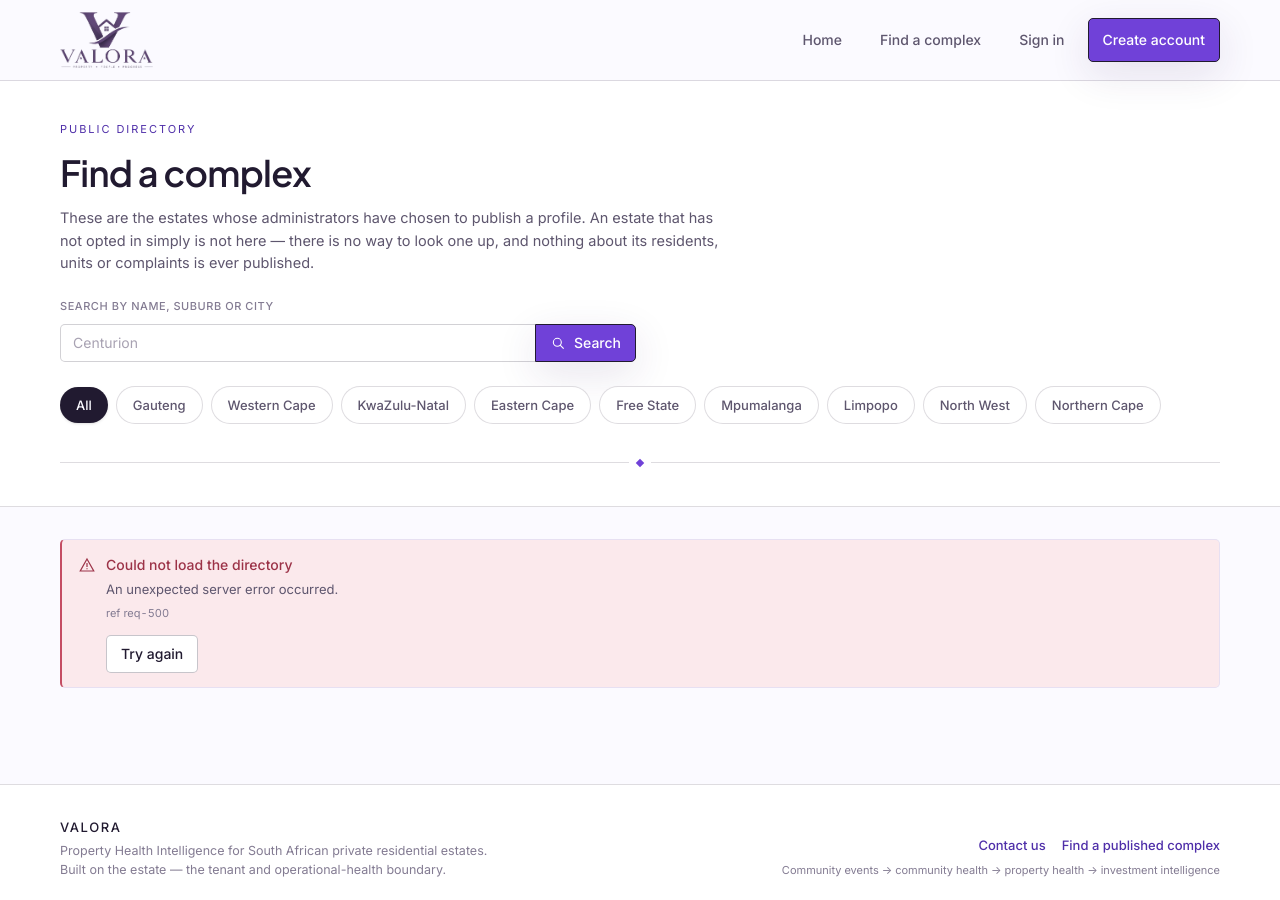
it: PublicEstates › shows a rejected directory read with its reference and a retry
Expected: the text "Could not load the directory" is shown, [106,556,292,573]
Expected: the text "ref req-500" is shown, [106,606,169,620]
Click the button "Try again" at (152, 654), box [106,634,198,672]
(page scrolled)
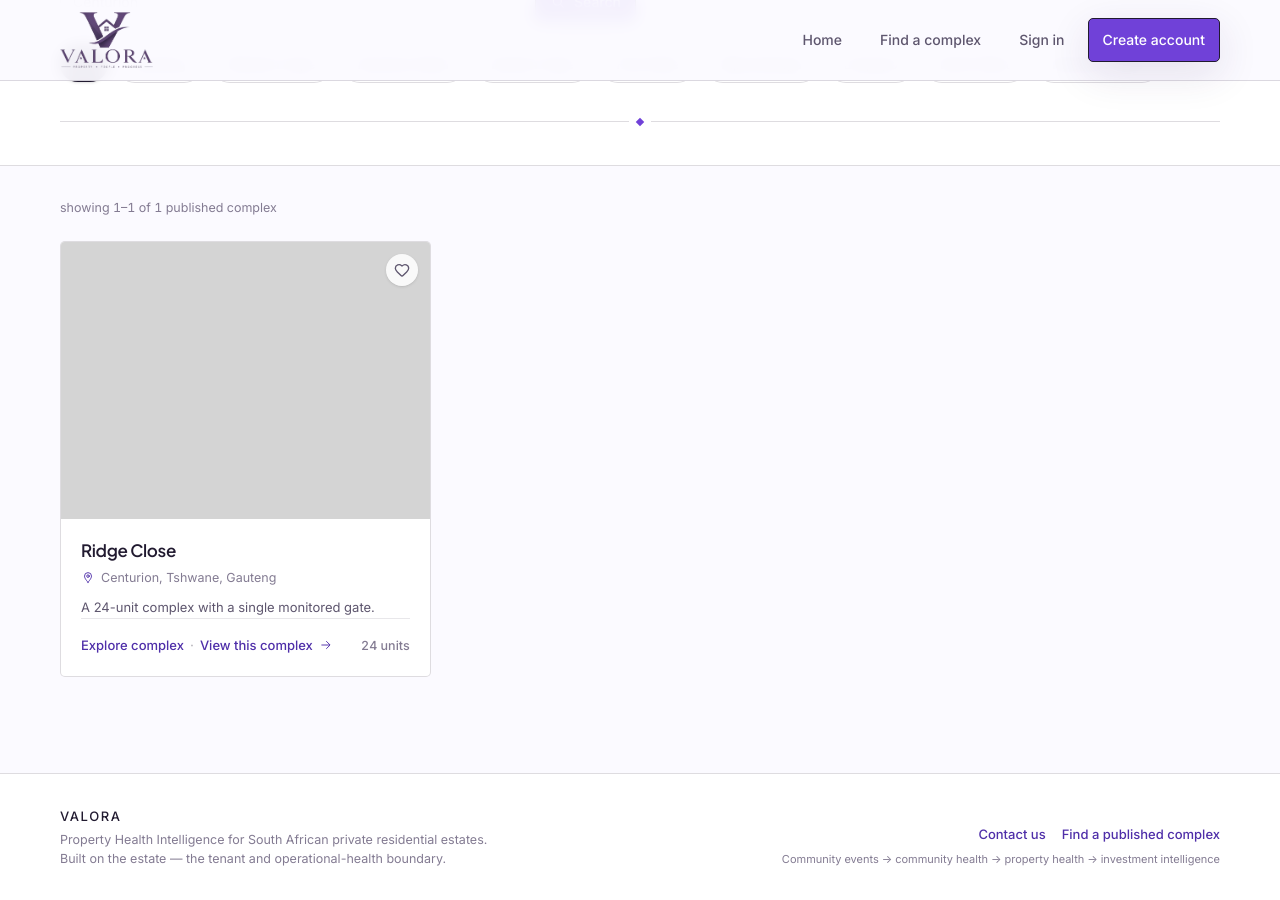
Expected: the link "Ridge Close" is shown, [81,538,176,560]
